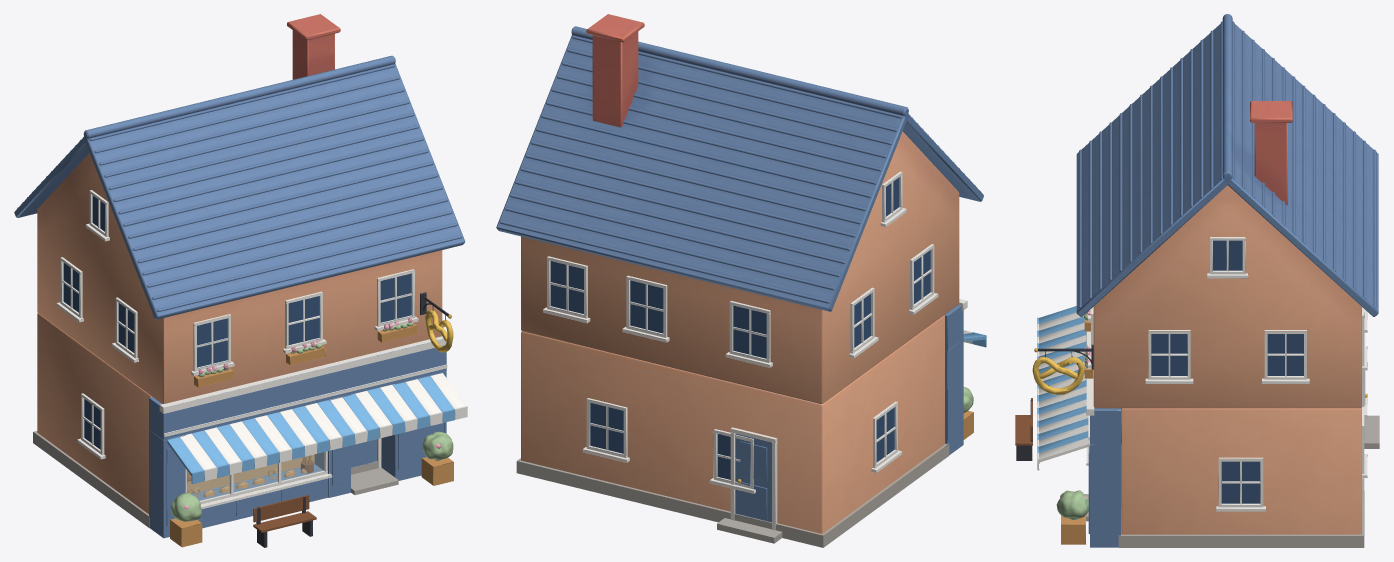
File: bakery.glb
The picture shows the model from 3 angles, left to right: view 1: azimuth 30°, elevation 25°; view 2: azimuth 150°, elevation 25°; view 3: azimuth 270°, elevation 25°; orthographic projection. The views are drawn at different scales.
Parts seen in each view (by area): view 1: bakery_body, bakery_details, bakery_shop_glass, bakery_plants; view 2: bakery_body, bakery_details; view 3: bakery_body, bakery_details, bakery_plants.
Boxes of the visible parts, box(x1,y1,x2,y2) form: bakery_body: box(14, 14, 465, 516); bakery_details: box(33, 190, 467, 547); bakery_shop_glass: box(187, 452, 324, 500); bakery_plants: box(170, 431, 453, 521); bakery_body: box(496, 14, 983, 535); bakery_details: box(516, 171, 986, 547); bakery_body: box(1076, 14, 1378, 534); bakery_details: box(1015, 237, 1379, 547); bakery_plants: box(1056, 490, 1088, 519).
Bounding box in the file's own units: 8.4 × 10.22 × 8.15.
17 materials, 1 textured.
